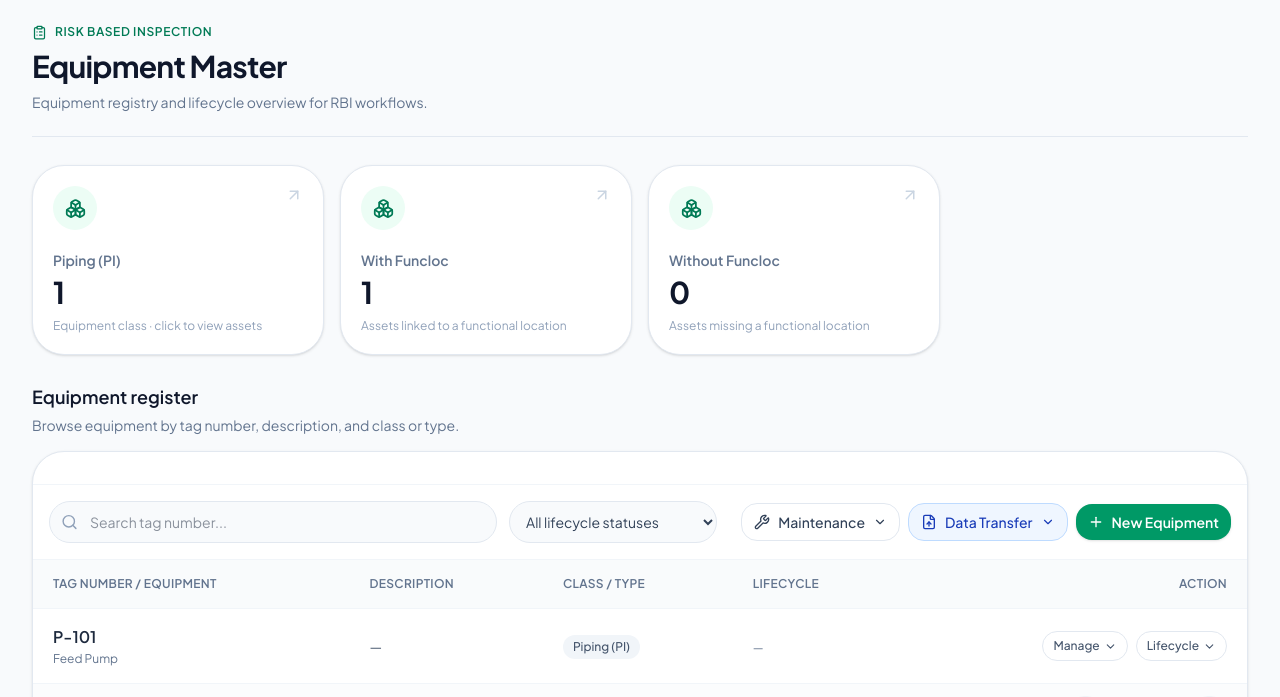
Test: EquipmentMasterPage API integration › shows a placeholder toast and captures the id for the Manage → Edit Asset wiring
Click the button with aria-label "Manage P-101" at (1085,646), box [1042,631,1128,661]
(page scrolled)
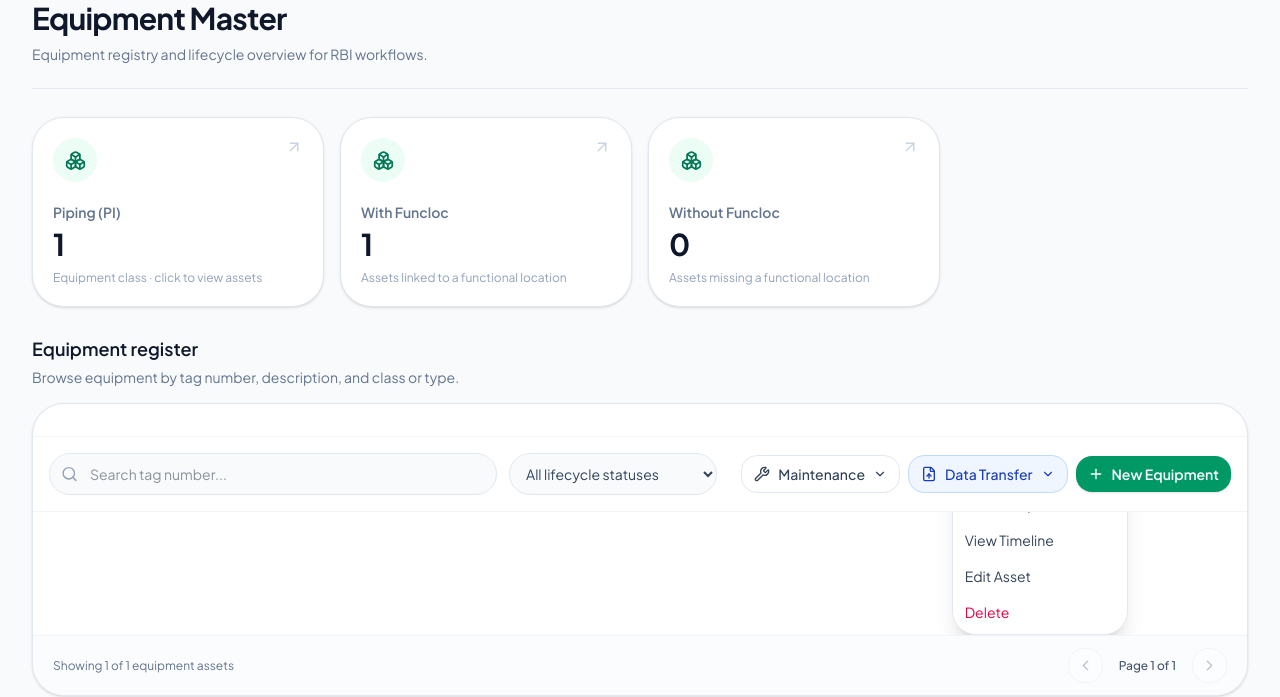
Click the menu item "Edit Asset" at (1040,576), box [953,558,1127,594]
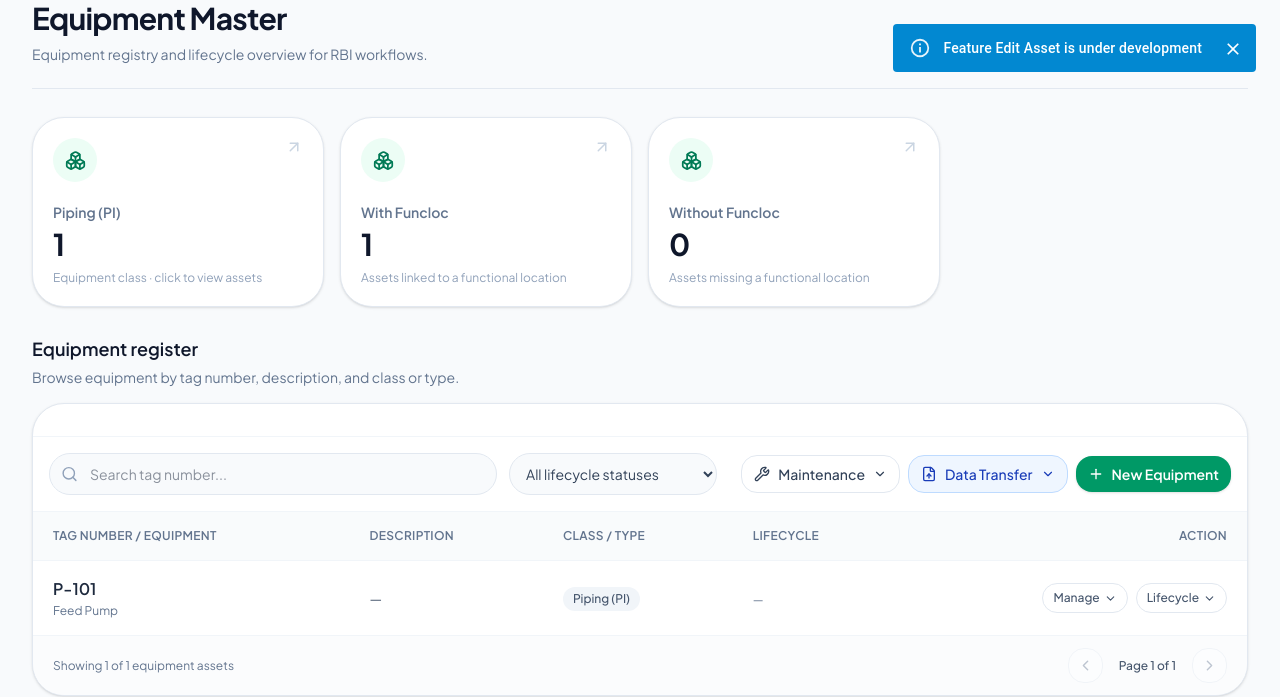
Expected: the text "Feature Edit Asset is under development" is shown, [943,40,1202,56]
